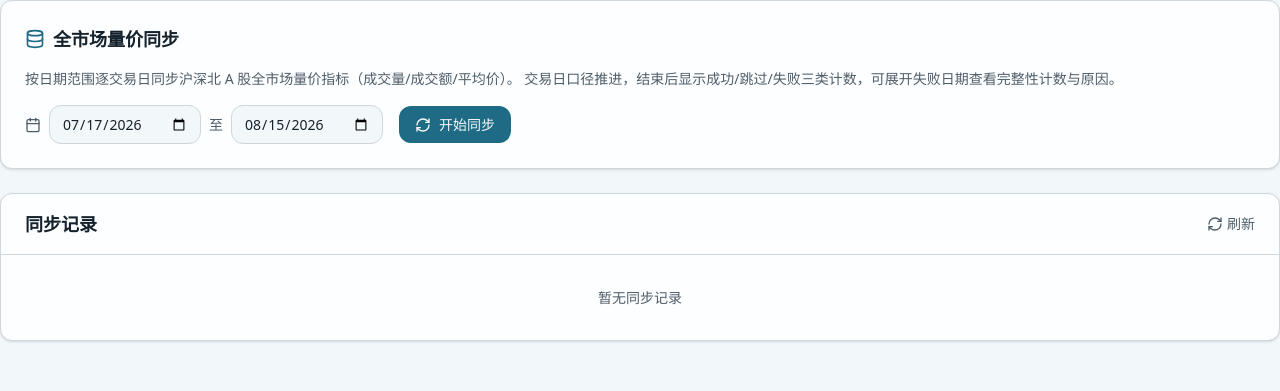
Test: MarketMetricsSyncPanel › 默认渲染与前端校验（AC-10） › 未来结束日：按钮禁用 + 行内错误提示
In the date field named "开始日期": (125, 124) [49,105,201,144], type "2026-08-01"
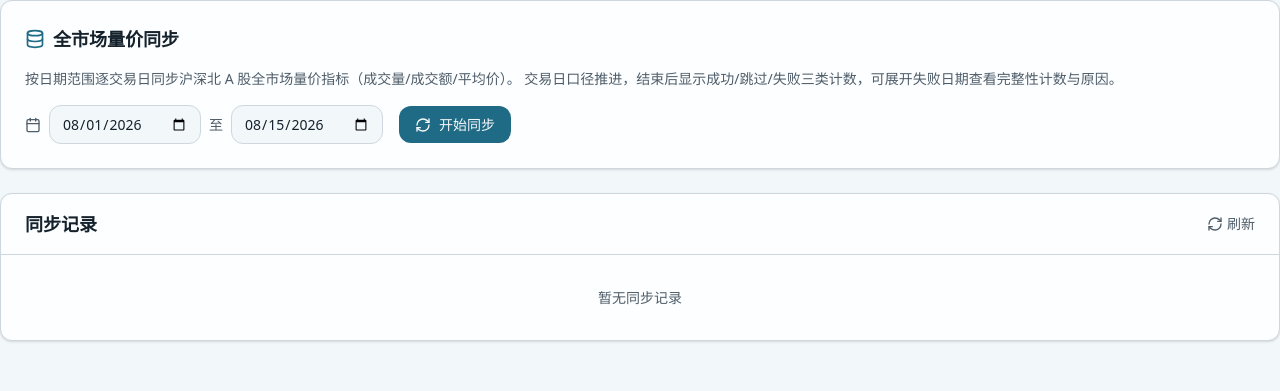
In the date field named "结束日期": (307, 124) [231,105,383,144], type "2099-12-31"
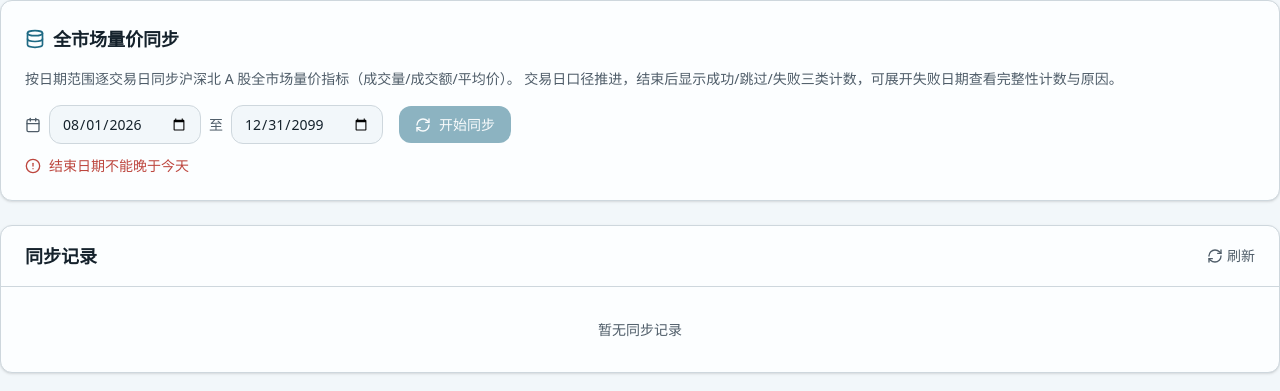
expect the button with test id "market-metrics-sync-start-button" is disabled: met, box [399,106,511,143]
expect the element with test id "market-metrics-sync-validation-error" shows "不能晚于今天": met, box [49,156,189,175]
